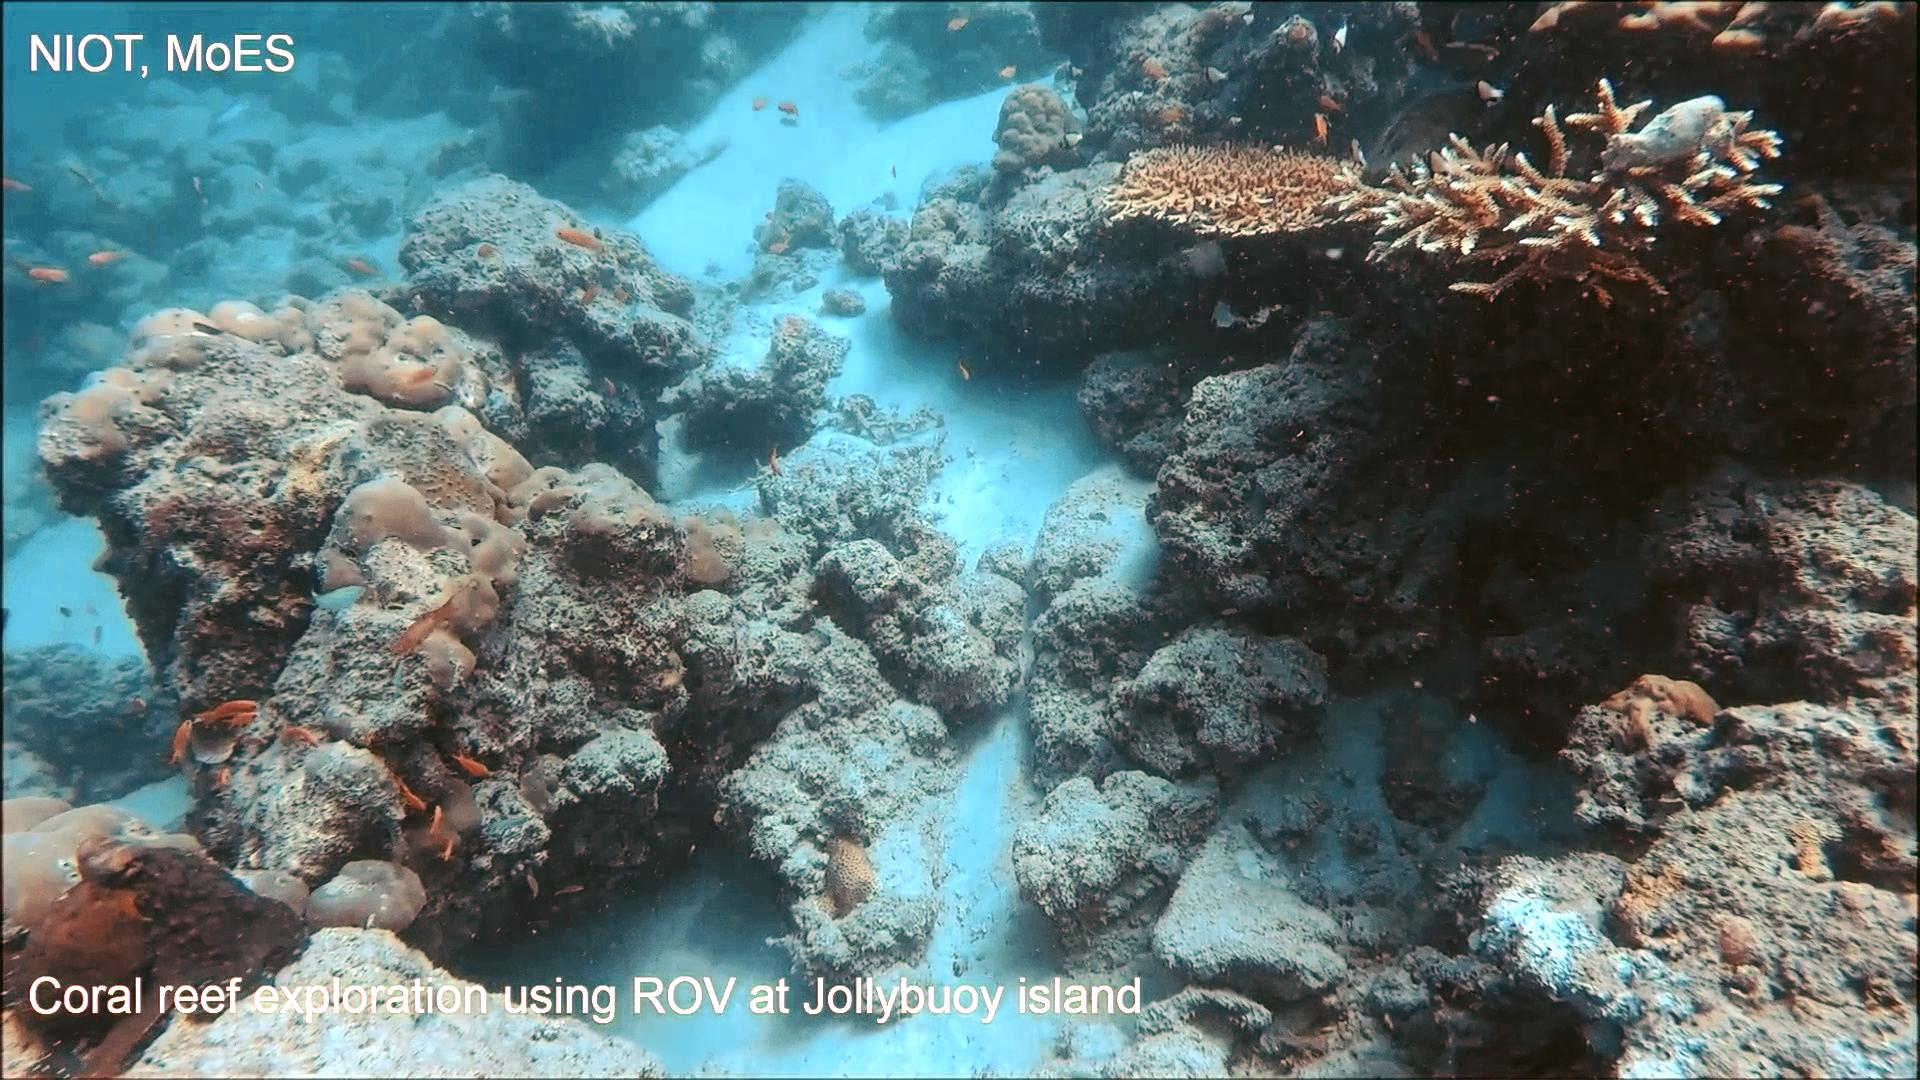Porites-Porites pukoensis: (301, 277, 583, 704)
